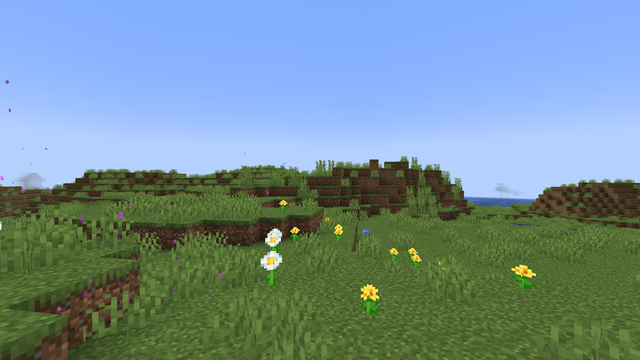slimes: (450, 205, 456, 209)
